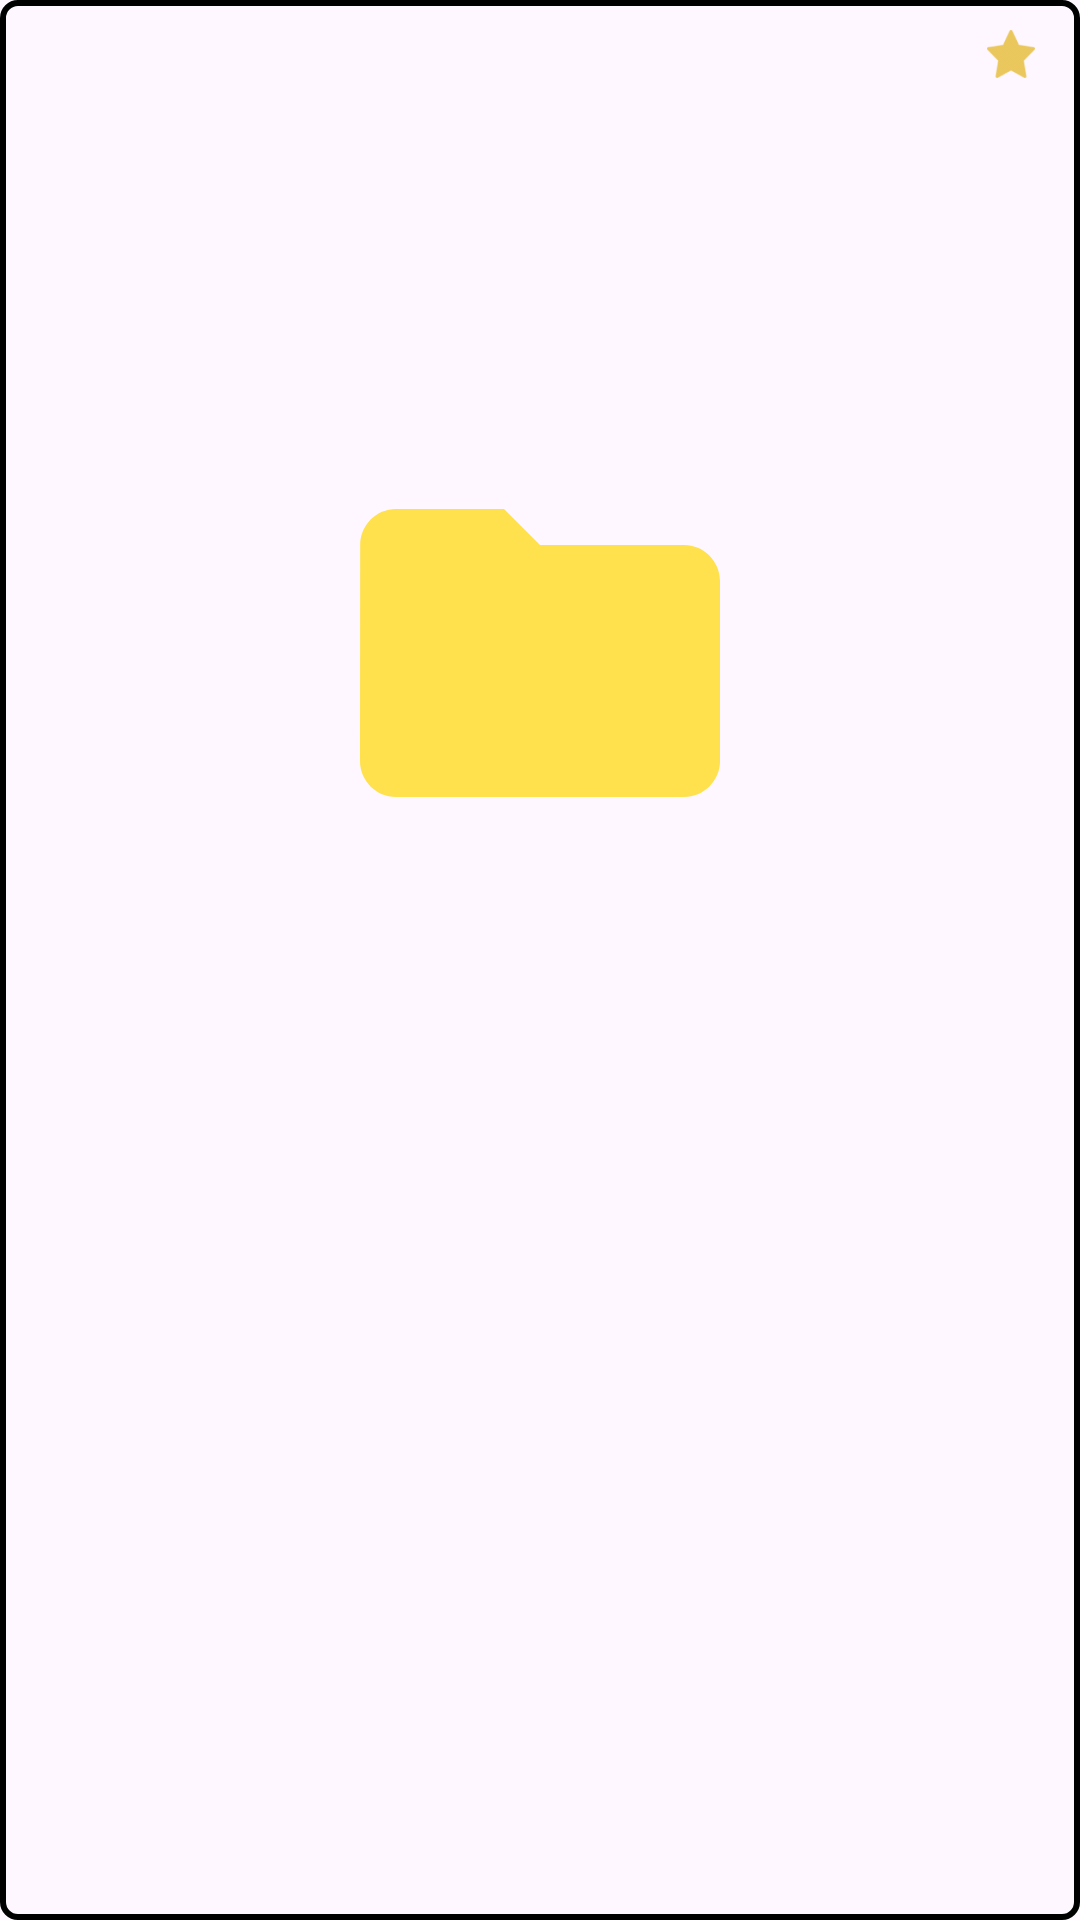

Point at icon controls on the screen. Image size 1080x1920, points as [x,y].
star: [1011,54]
